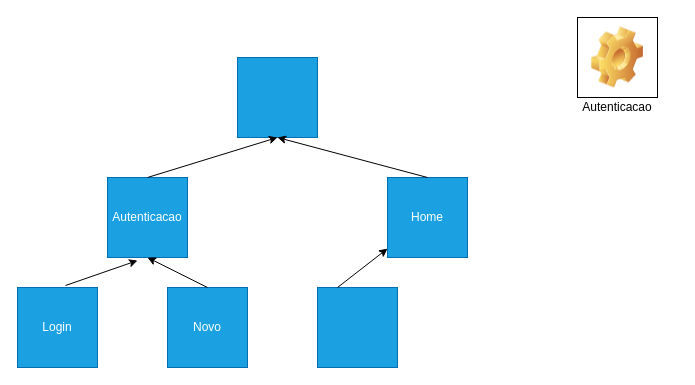
The diagram is 695 pixels wide and 385 high, and some of its shapes have lost their labels. Each missing label, with the centre of its shape:
Entrada: the point at 277,97
Lista: the point at 357,327
